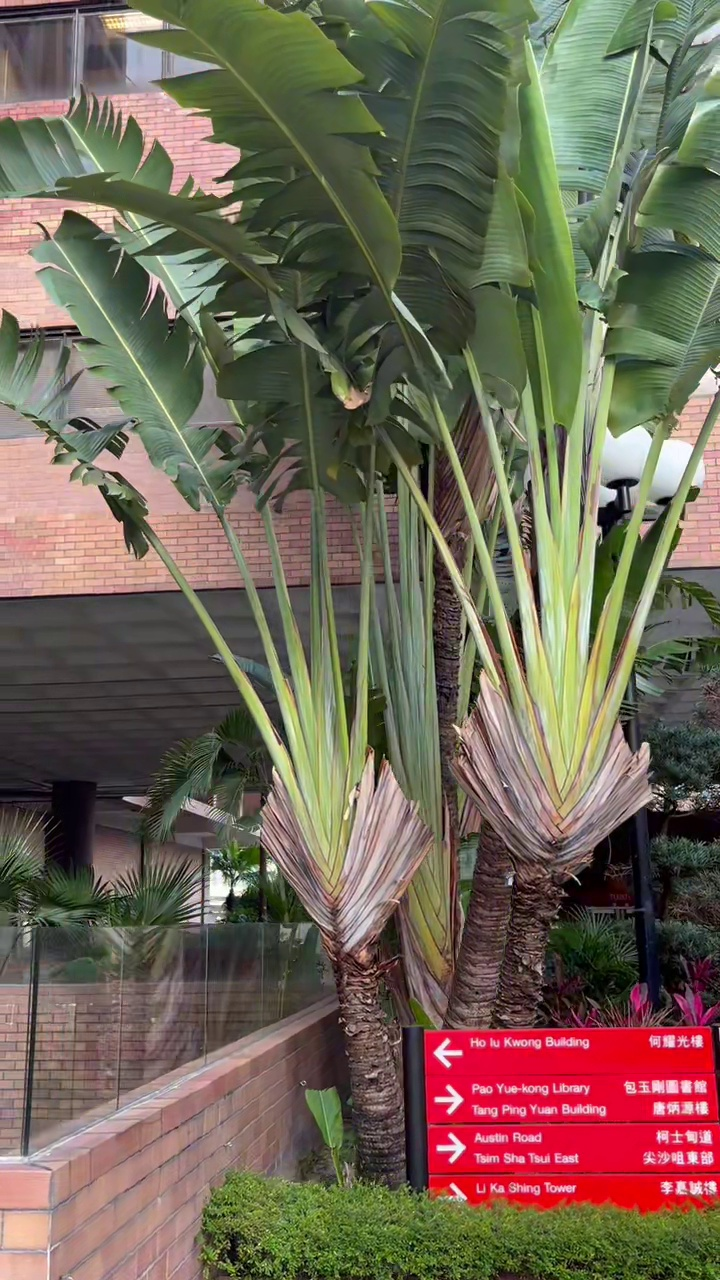Travellers-tree: (2, 0, 719, 1184)
